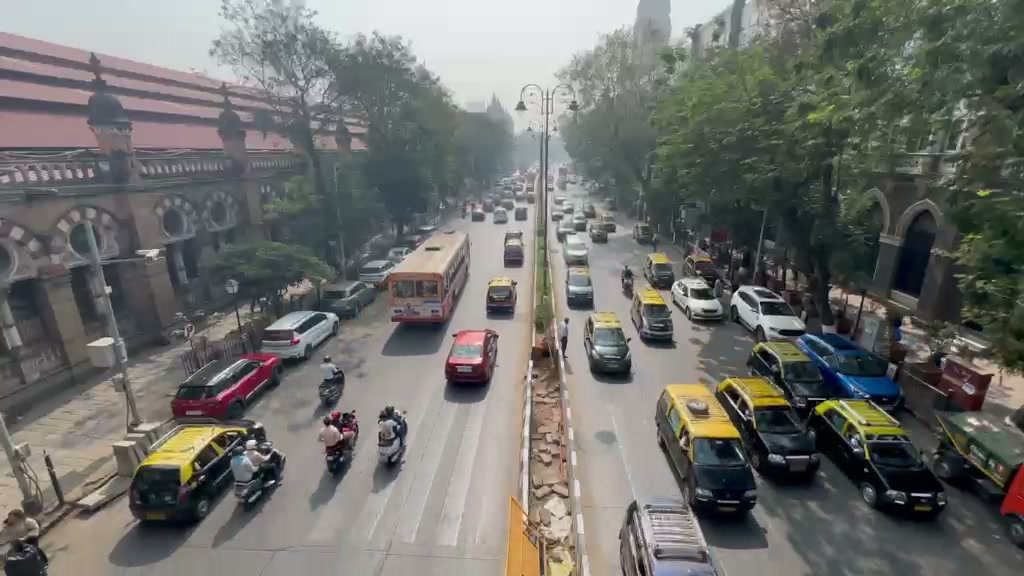bus: (385, 228, 471, 326)
car: (808, 395, 949, 520), (654, 381, 758, 519), (128, 423, 250, 524), (713, 374, 822, 483), (797, 331, 905, 411), (932, 409, 1024, 502), (746, 337, 853, 416), (618, 497, 720, 576), (170, 352, 282, 420), (258, 308, 339, 361), (731, 285, 807, 340), (444, 328, 500, 386), (584, 311, 633, 376), (316, 277, 377, 320), (671, 277, 725, 323), (634, 289, 676, 345), (998, 461, 1024, 549), (484, 276, 517, 318), (357, 258, 398, 290), (644, 251, 677, 288), (566, 269, 594, 309), (559, 234, 590, 265), (588, 221, 611, 244)
motorcycle: (232, 443, 285, 509), (320, 410, 358, 475), (323, 425, 358, 477), (377, 420, 407, 468)
truck: (809, 396, 949, 520), (655, 381, 758, 518)
